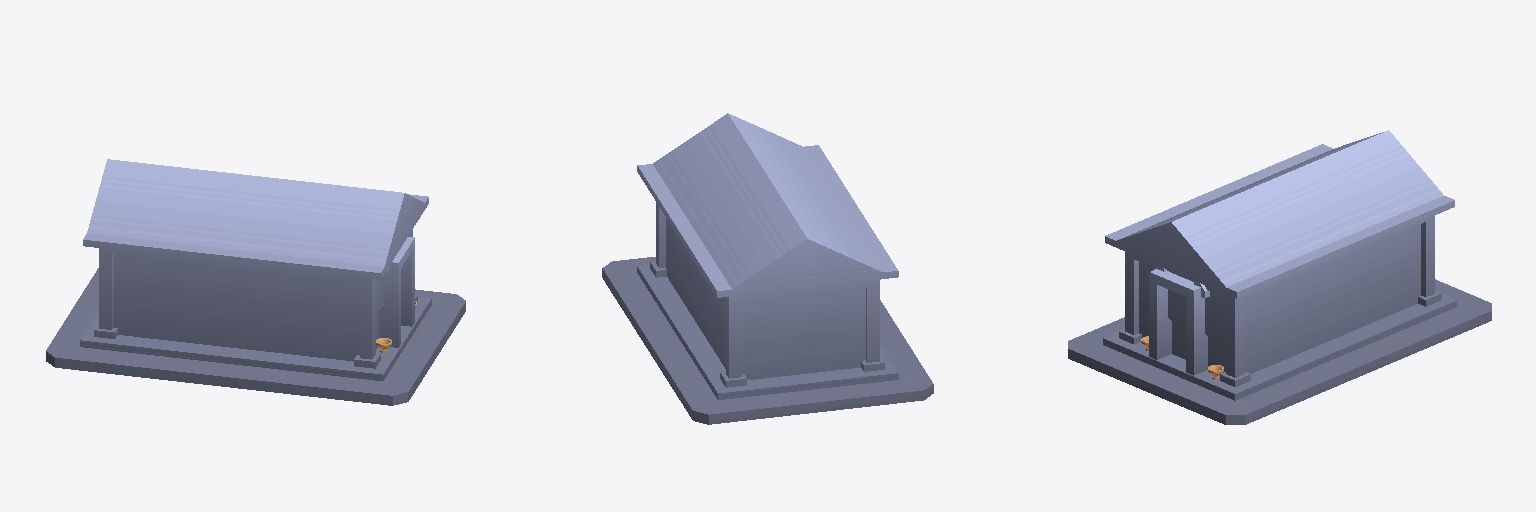
3 renders of one model, left to right at view 1: azimuth 30°, elevation 25°; view 2: azimuth 150°, elevation 25°; view 3: azimuth 270°, elevation 25°, orthographic.
Parts seen in each view (by area): view 1: Crypt_1; view 2: Crypt_1; view 3: Crypt_1.
Boxes of the visible parts, x1=… form: Crypt_1: x1=46, y1=159, x2=465, y2=405; Crypt_1: x1=602, y1=113, x2=933, y2=424; Crypt_1: x1=1068, y1=130, x2=1491, y2=424.
Bounding box in the file's own units: 4.06 × 1.69 × 4.06.
3 materials, 1 textured.